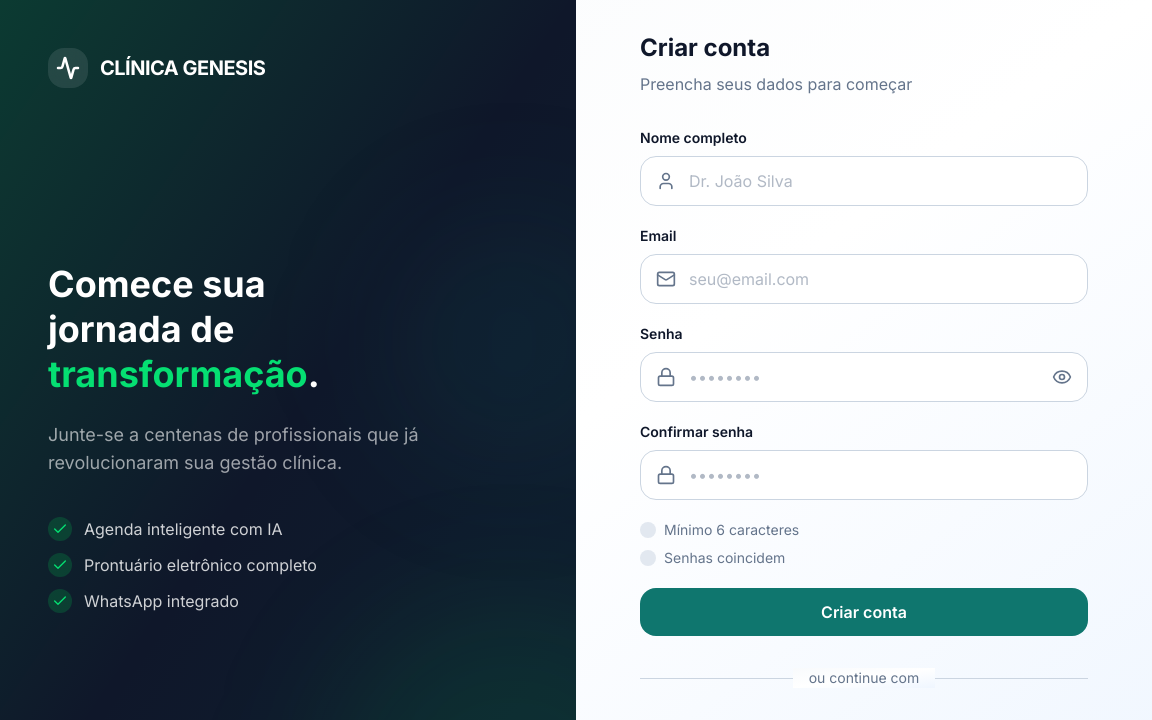
Test: Register › form submission › should show loading state during submission
Type "Test User" into the field labelled "Nome completo".
click(864, 181); type("Test User")  # box [640, 156, 1088, 206]
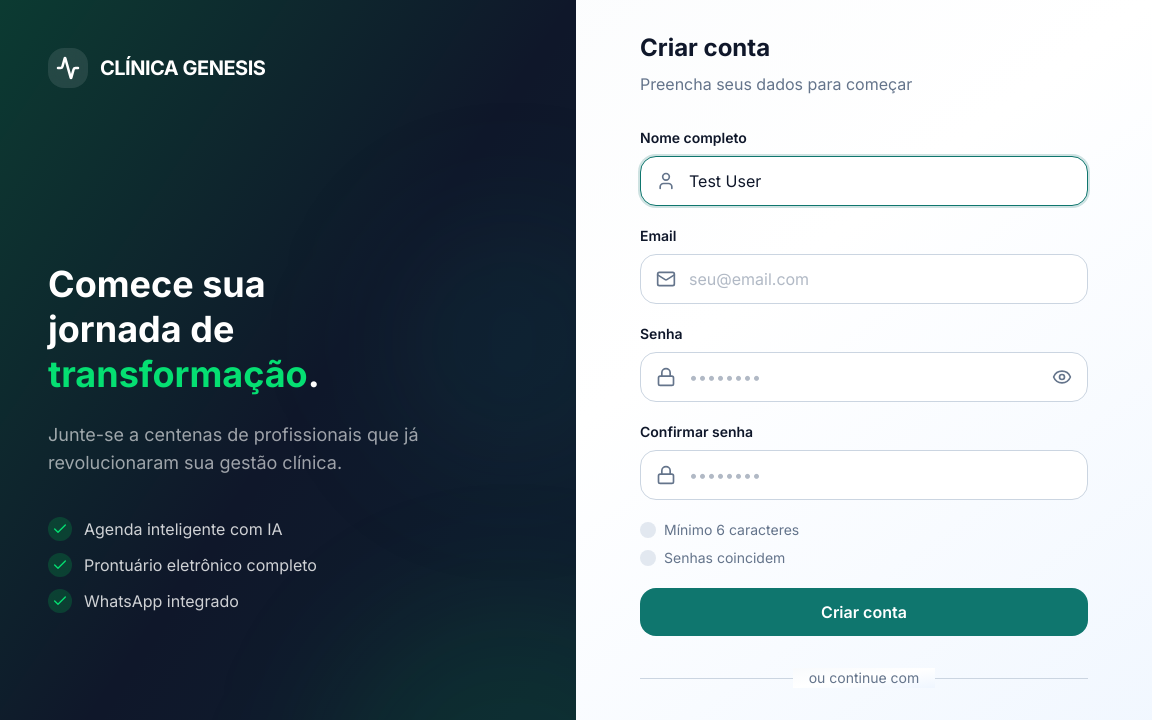
Type "test@example.com" into the field labelled "Email".
click(864, 279); type("test@example.com")  # box [640, 254, 1088, 304]
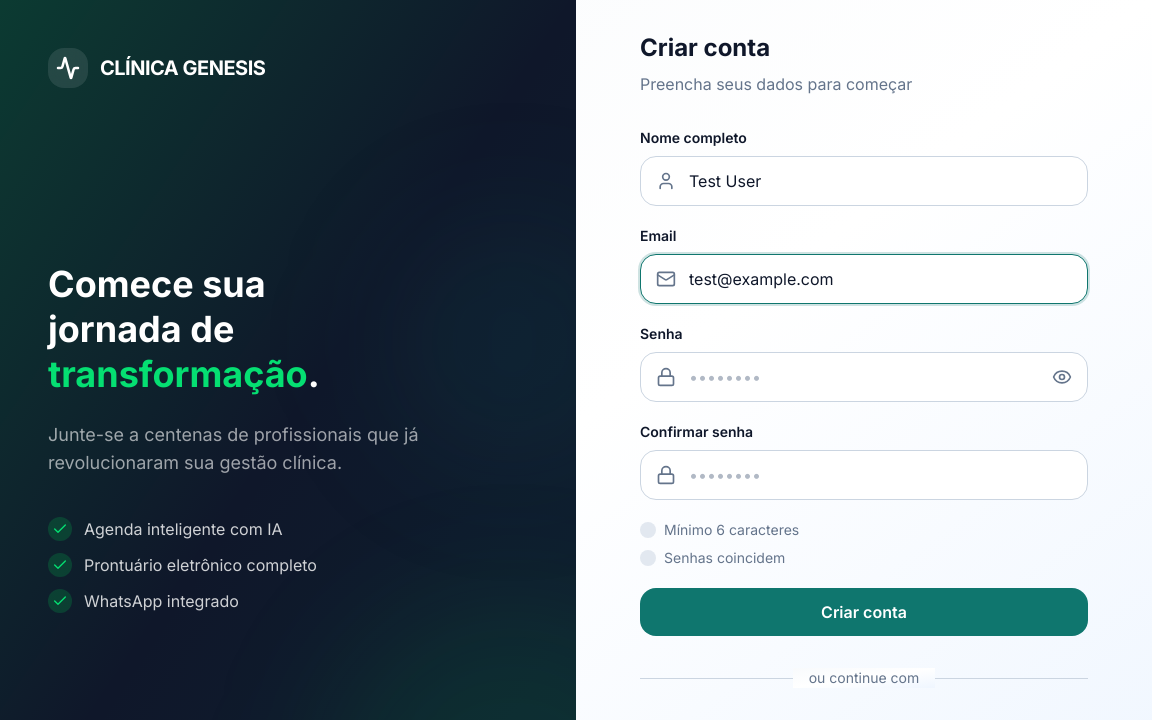
Type "password123" into the password field labelled "Senha".
click(864, 377); type("password123")  # box [640, 352, 1088, 402]
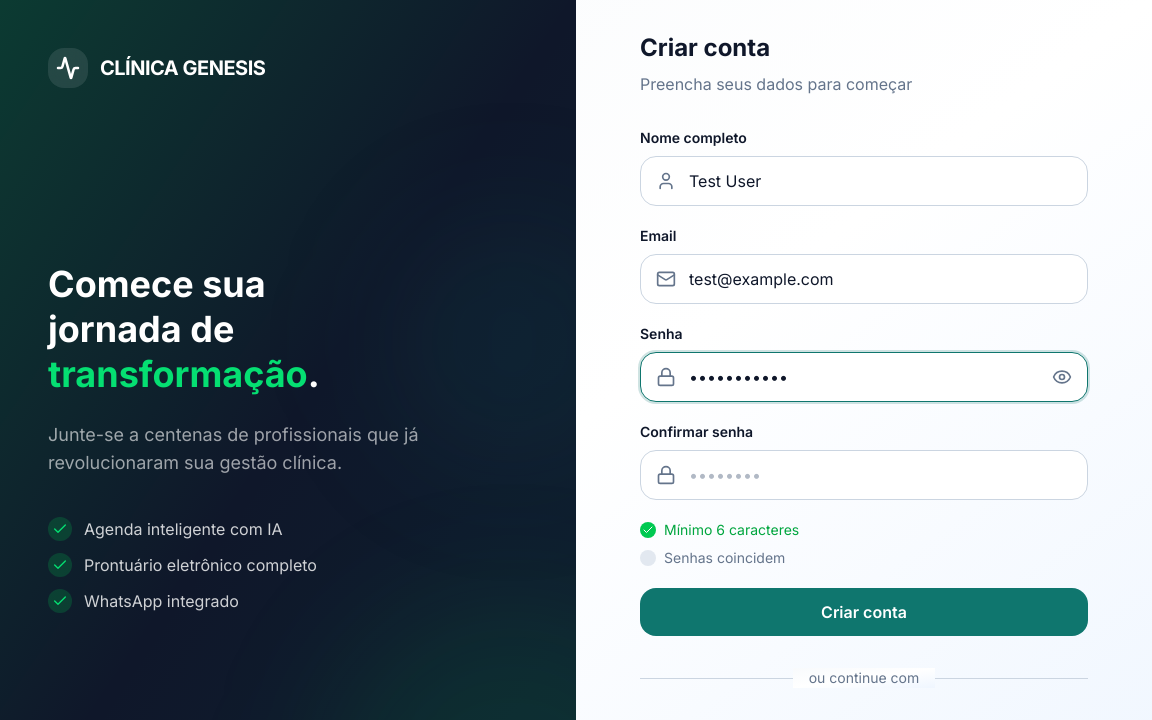
Type "password123" into the password field labelled "Confirmar senha".
click(864, 475); type("password123")  # box [640, 450, 1088, 500]
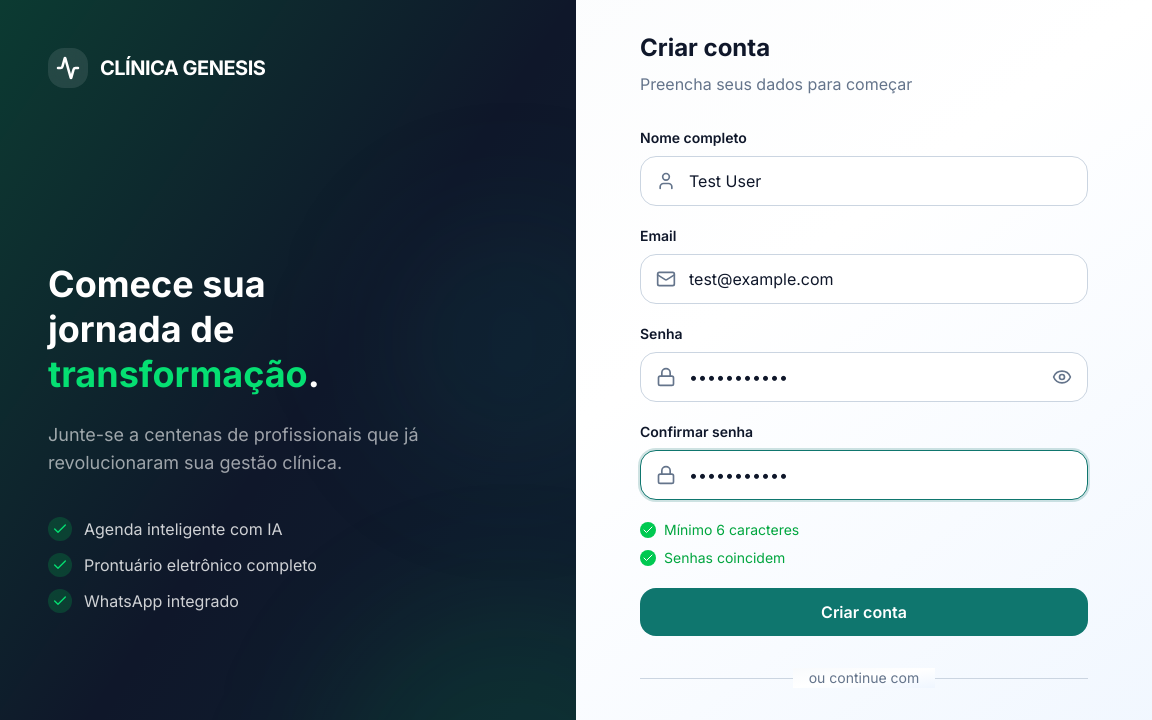
Click the button "Criar conta".
click(864, 612)  # box [640, 588, 1088, 636]
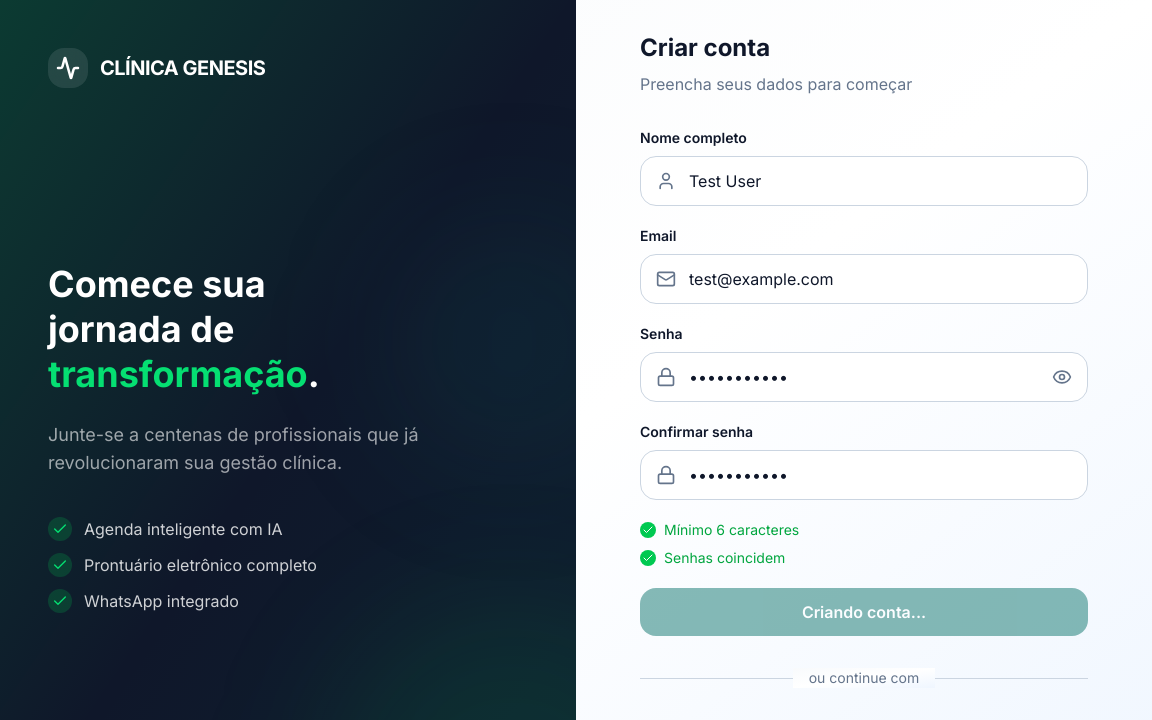
Result: the button "Criando conta..." is shown at [640, 588, 1088, 636]
